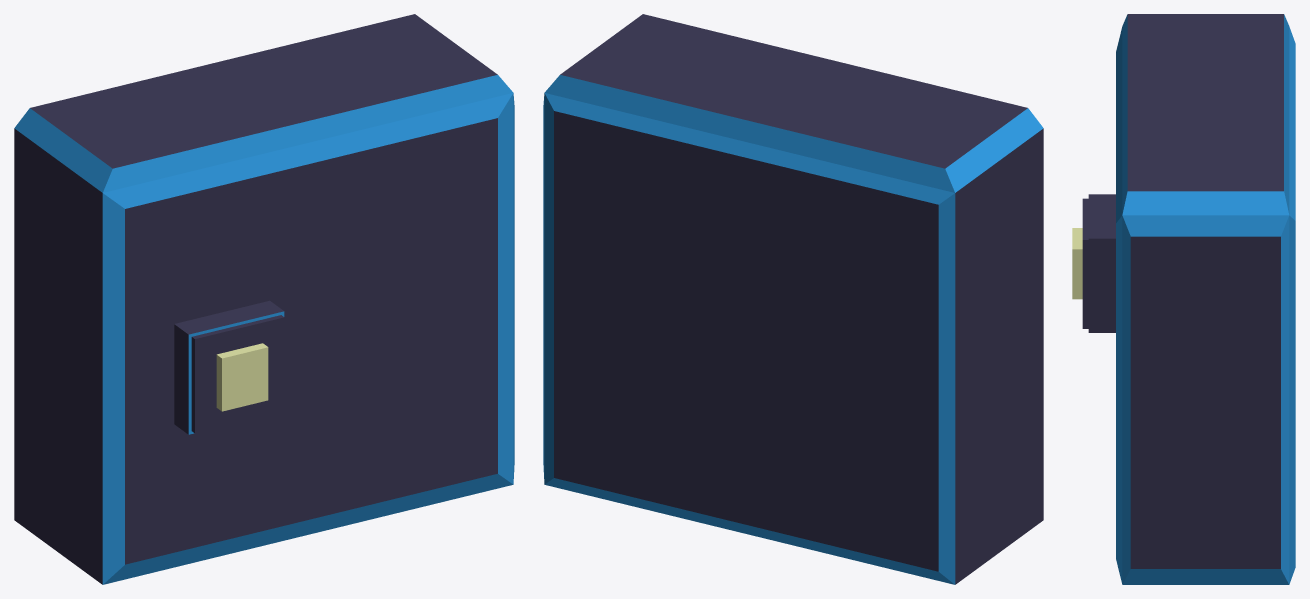
File: electricalBarrier.fbx
3 renders of one model, left to right at view 1: azimuth 30°, elevation 25°; view 2: azimuth 150°, elevation 25°; view 3: azimuth 270°, elevation 25°, orthographic. The views are drawn at different scales.
Parts seen in each view (by area): view 1: Cube; view 2: Cube; view 3: Cube.
Part boxes in pixels (x1,y1,x2,y2): Cube: [14, 14, 514, 584]; Cube: [543, 14, 1043, 584]; Cube: [1072, 14, 1295, 584].
Bounding box in the file's own units: 870 × 821 × 429.
